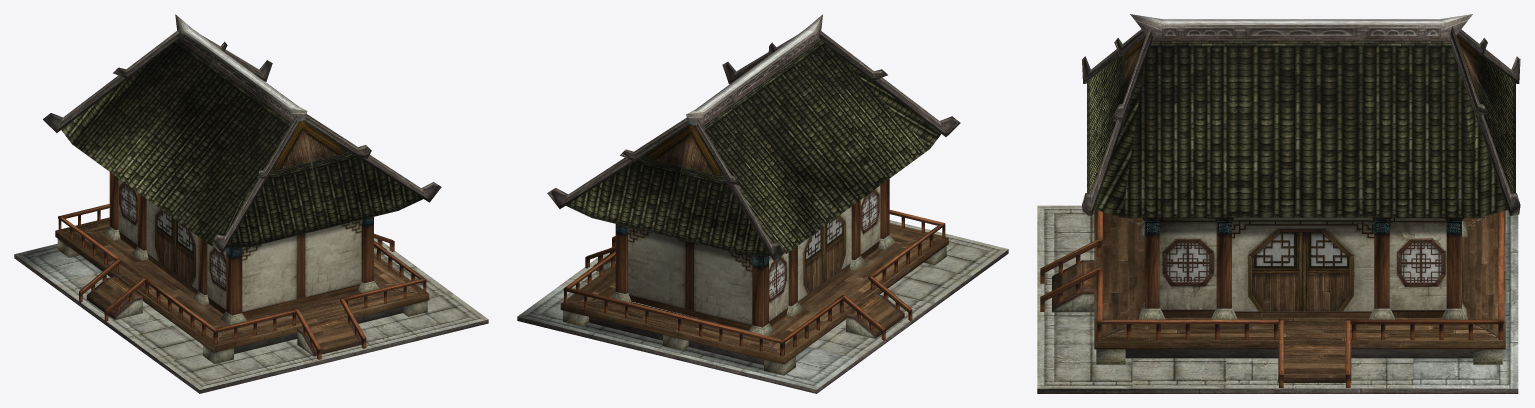
File: b1-008-house5_lod_01.fbx
The picture shows the model from 3 angles, left to right: view 1: azimuth 30°, elevation 25°; view 2: azimuth 150°, elevation 25°; view 3: azimuth 270°, elevation 25°; orthographic projection. The views are drawn at different scales.
Parts seen in each view (by area): view 1: b1-008-house5-01, b1-008-house5-03, b1-008-house5-02; view 2: b1-008-house5-01, b1-008-house5-03, b1-008-house5-02; view 3: b1-008-house5-01, b1-008-house5-03, b1-008-house5-02.
Part boxes in pixels (bbox=[...]): b1-008-house5-01: bbox=[14, 14, 488, 393]; b1-008-house5-03: bbox=[55, 172, 488, 389]; b1-008-house5-02: bbox=[118, 179, 361, 317]; b1-008-house5-01: bbox=[517, 14, 1008, 393]; b1-008-house5-03: bbox=[559, 179, 1008, 375]; b1-008-house5-02: bbox=[628, 186, 880, 330]; b1-008-house5-01: bbox=[1037, 14, 1520, 393]; b1-008-house5-03: bbox=[1037, 205, 1505, 388]; b1-008-house5-02: bbox=[1159, 217, 1446, 317].
Size of the model in its own units: 14.74 by 10.82 by 16.45.
